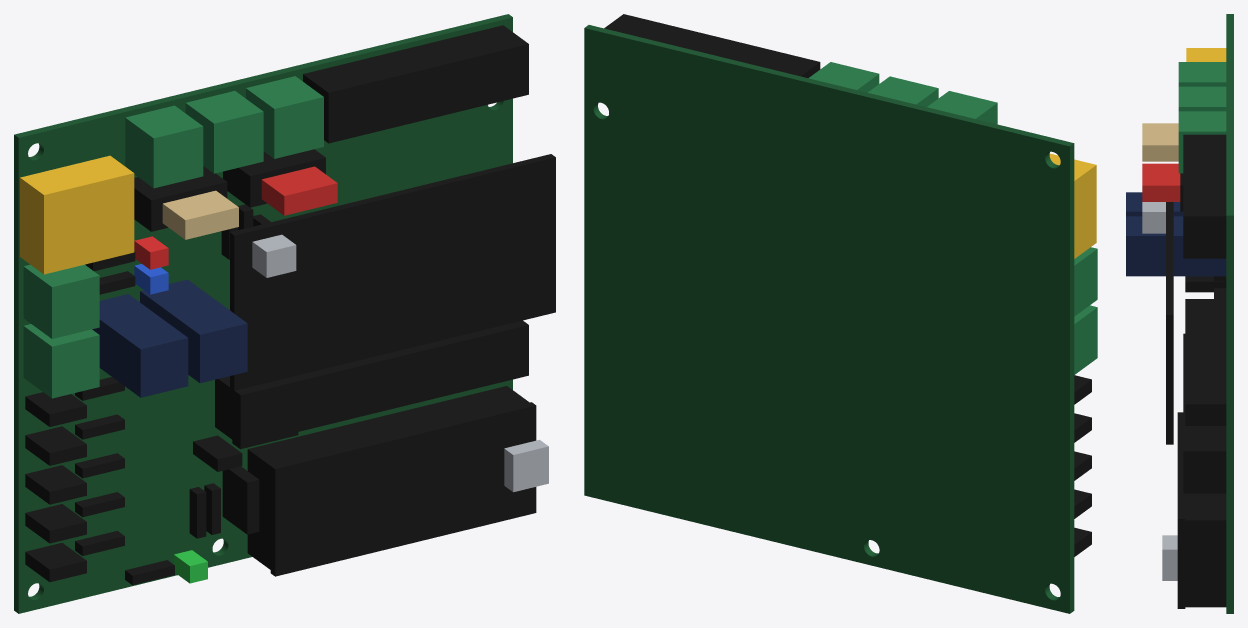
Rendered from carrier-assembly.glb.
3 views of the same model, side by side, from view 1: azimuth 30°, elevation 25°; view 2: azimuth 150°, elevation 25°; view 3: azimuth 270°, elevation 25° (orthographic). The views are drawn at different scales.
Parts seen in each view (by area): view 1: pcb_board, respeaker_hat, pcb_blackpill, pcb_J12, pcb_J13, pcb_J1, pcb_U1, pcb_C1, pcb_C2, pcb_J2, pcb_J6, pcb_J4 (+25 smaller); view 2: pcb_board, pcb_J13, pcb_J1, pcb_J5, pcb_J6, pcb_J2, pcb_J3, pcb_J4; view 3: pcb_J13, pcb_J14, pcb_U1, pcb_board, pcb_C2, pcb_J12, respeaker_hat, pcb_blackpill, fuse_F1, fuse_F2, pcb_J3, pcb_J4 (+7 smaller).
Boxes of the visible parts, left/top/right/bottom form: pcb_board: left=14, top=14, right=512, bottom=613; respeaker_hat: left=230, top=154, right=555, bottom=390; pcb_blackpill: left=270, top=402, right=536, bottom=576; pcb_J12: left=215, top=320, right=528, bottom=445; pcb_J13: left=303, top=25, right=528, bottom=143; pcb_J1: left=20, top=155, right=134, bottom=274; pcb_U1: left=247, top=386, right=529, bottom=569; pcb_C1: left=92, top=294, right=188, bottom=397; pcb_C2: left=140, top=279, right=247, bottom=383; pcb_J2: left=125, top=105, right=203, bottom=188; pcb_J6: left=23, top=264, right=99, bottom=338; pcb_J4: left=185, top=91, right=263, bottom=173; pcb_board: left=584, top=25, right=1074, bottom=613; pcb_J13: left=604, top=14, right=820, bottom=77; pcb_J1: left=1049, top=153, right=1096, bottom=258; pcb_J5: left=1074, top=305, right=1097, bottom=374; pcb_J6: left=1074, top=247, right=1097, bottom=316; pcb_J2: left=927, top=91, right=997, bottom=124; pcb_J3: left=808, top=62, right=879, bottom=92; pcb_J4: left=868, top=76, right=938, bottom=106; pcb_J13: left=1183, top=134, right=1226, bottom=258; pcb_J14: left=1185, top=302, right=1226, bottom=425; pcb_U1: left=1185, top=493, right=1226, bottom=607; pcb_board: left=1226, top=14, right=1233, bottom=613; pcb_C2: left=1126, top=216, right=1226, bottom=276; pcb_J12: left=1183, top=333, right=1226, bottom=493; respeaker_hat: left=1166, top=202, right=1173, bottom=444; pcb_blackpill: left=1177, top=412, right=1185, bottom=608; fuse_F1: left=1142, top=163, right=1180, bottom=201; fuse_F2: left=1142, top=123, right=1178, bottom=161; pcb_J3: left=1178, top=111, right=1226, bottom=173; pcb_J4: left=1178, top=86, right=1226, bottom=111.
Bounding box in the file's own units: 101 × 92 × 22.6.
